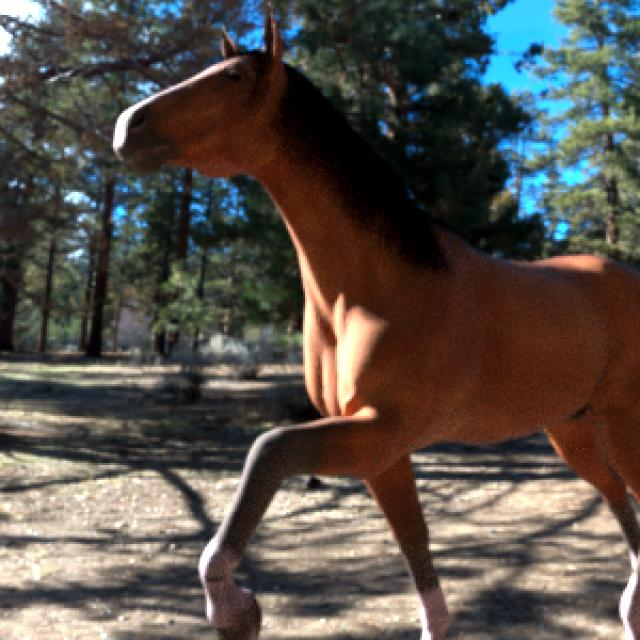horse: (114, 16, 640, 640)
